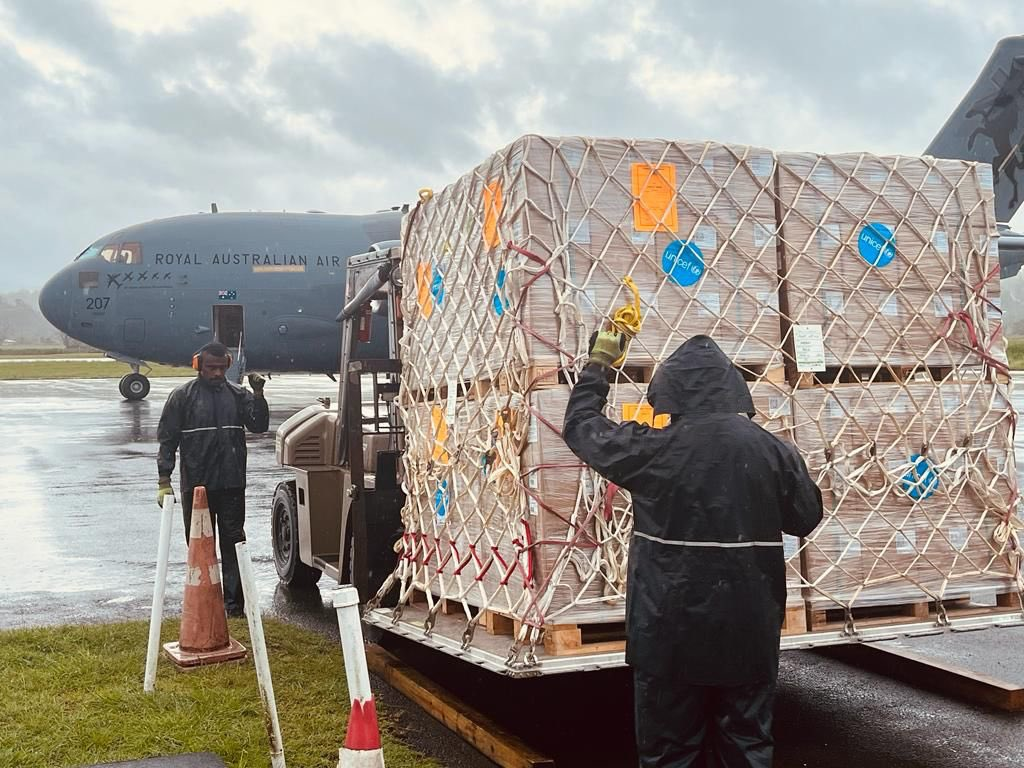airplane: (38, 34, 1024, 399)
